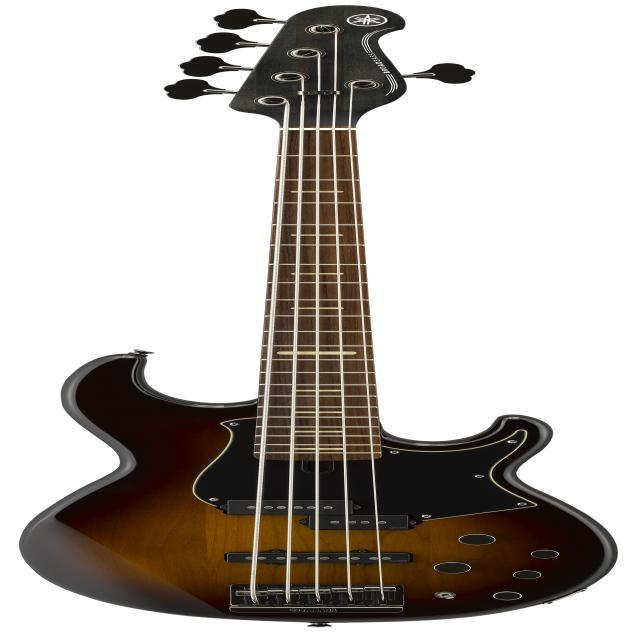bass: (21, 6, 615, 623)
